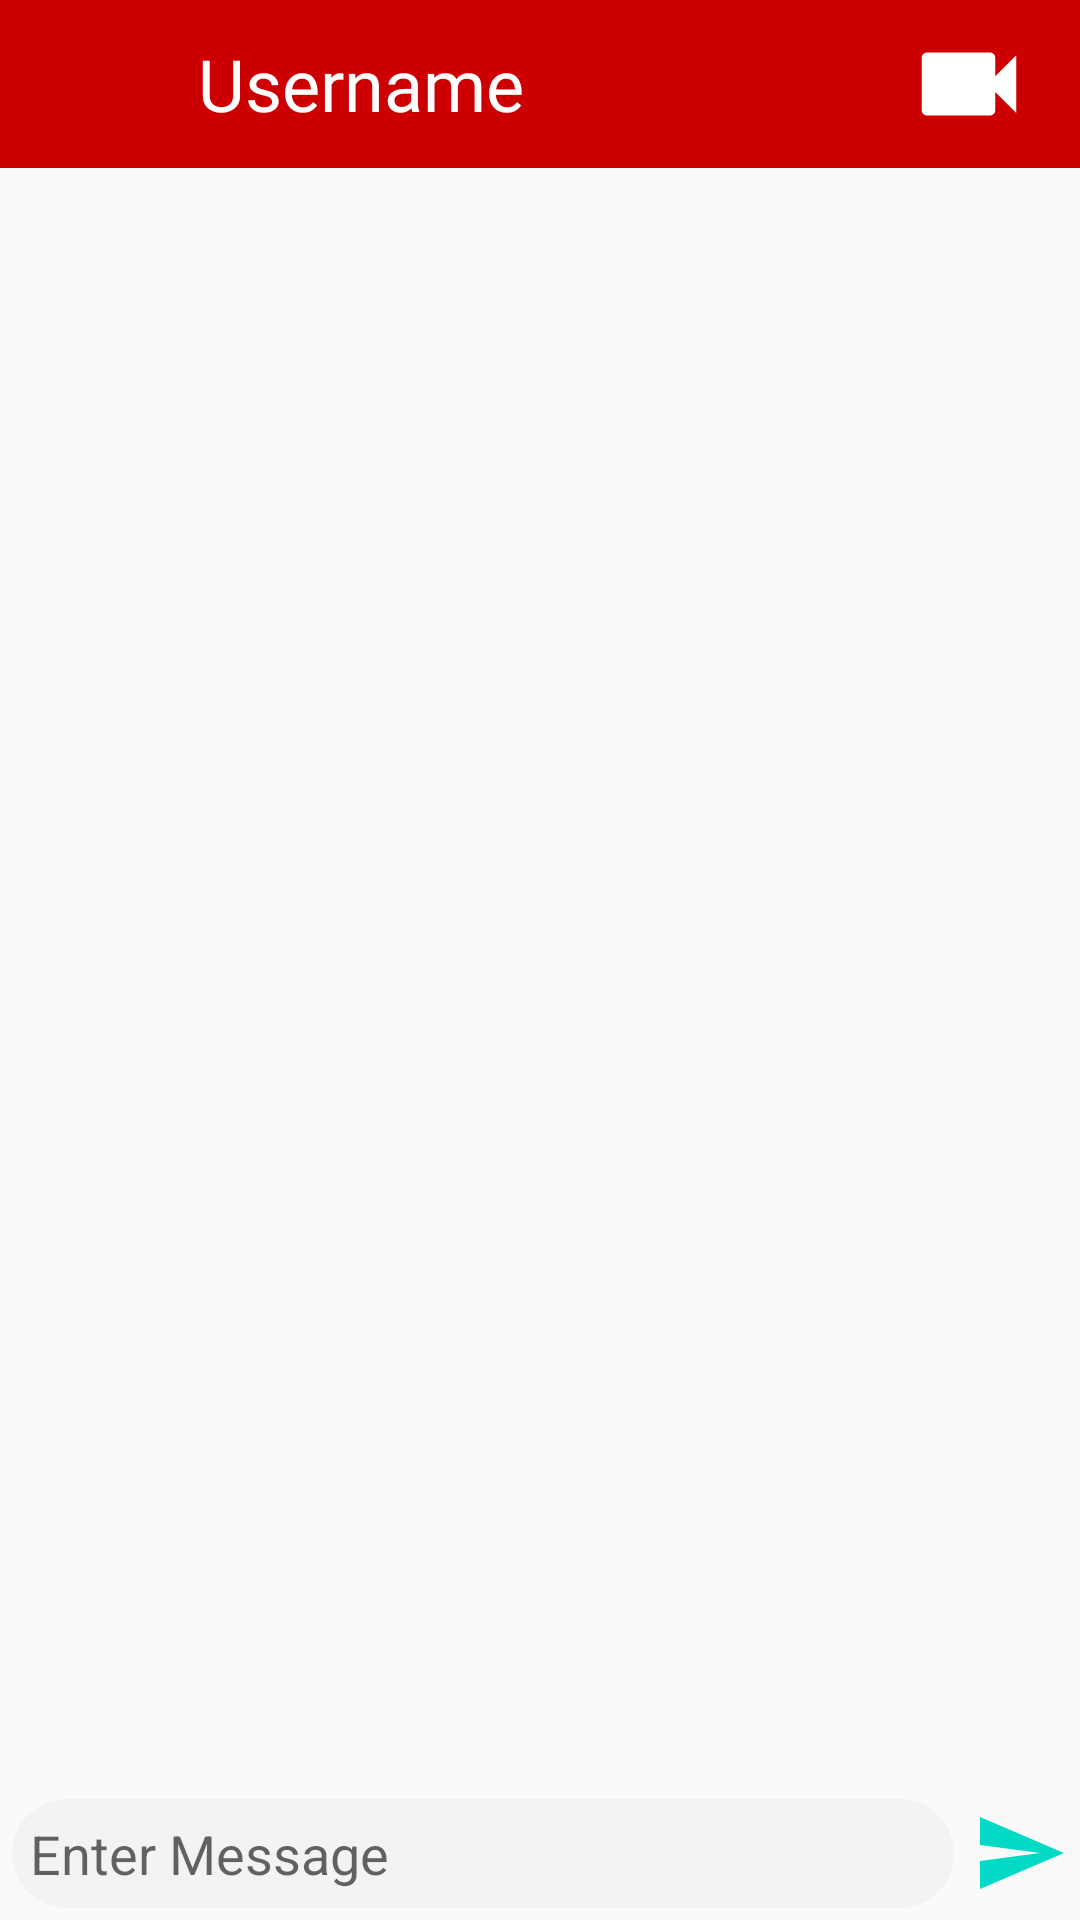

Icon bounding boxes for this 1080px x 1920px phone screenshot, format (x1, y1, x2, y2):
send message: (980, 1817, 1064, 1889)
videocam: (921, 52, 1017, 116)
